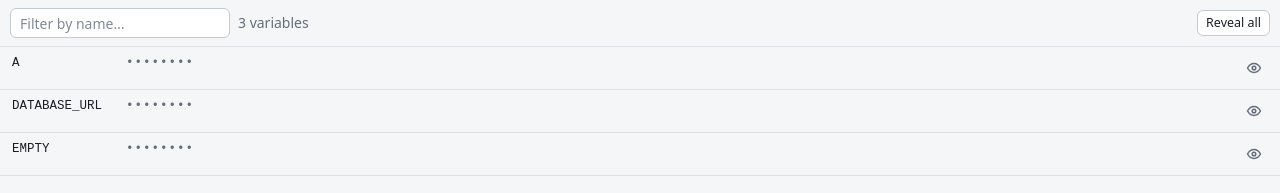
Test: EnvPanel › revealing one variable asks for that one and shows it
Click the button named "Reveal A".
click(1254, 68)  # box left=1240, top=54, right=1268, bottom=82
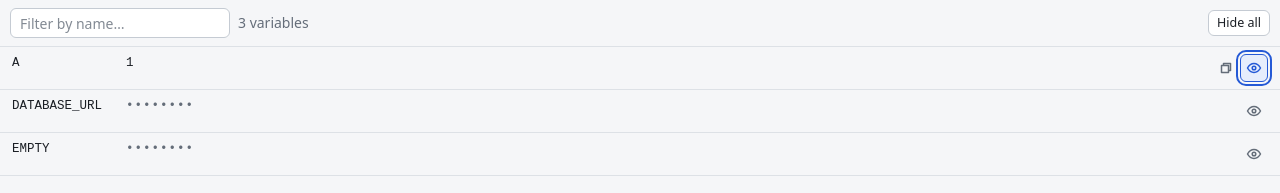
Expected: the text "••••••••" is shown 2 times, left=126, top=99, right=194, bottom=113; left=126, top=142, right=194, bottom=156
Expected: the text "1" is shown, left=114, top=47, right=1200, bottom=90
Click the button named "Hide A".
click(1254, 68)  # box left=1240, top=54, right=1268, bottom=82
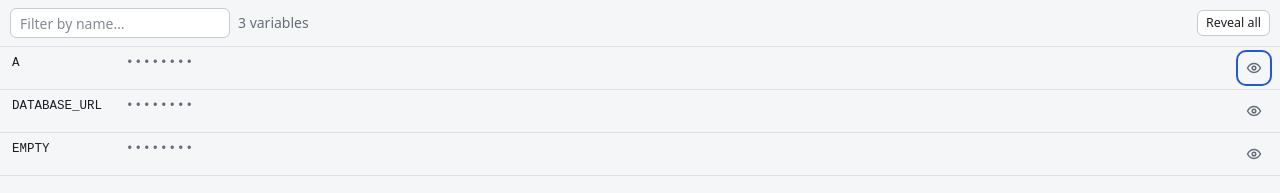
Expected: the text "••••••••" is shown 3 times, left=126, top=56, right=194, bottom=70; left=126, top=99, right=194, bottom=113; left=126, top=142, right=194, bottom=156
